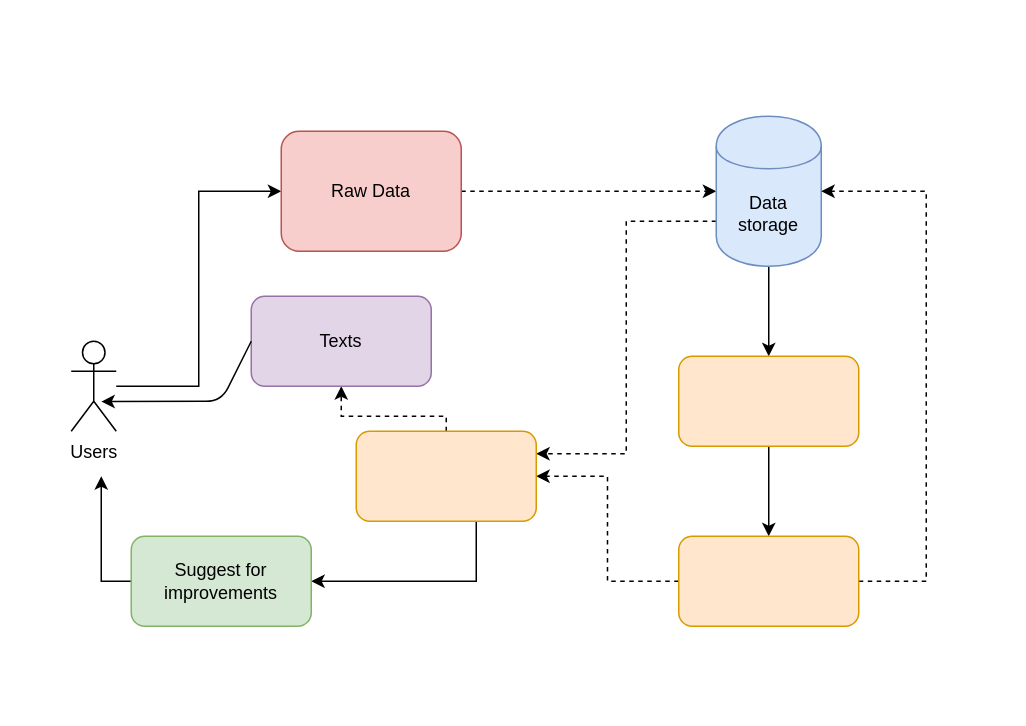
Some shapes in this 1026 by 726 pixel diagram are drawn without their labels. The box of each missing label's shape, as (x1, y1, x2, y2) in pixels:
Data Transformation: (677, 355, 859, 446)
Live Model Server: (355, 430, 536, 521)
Model Training: (677, 535, 859, 626)
